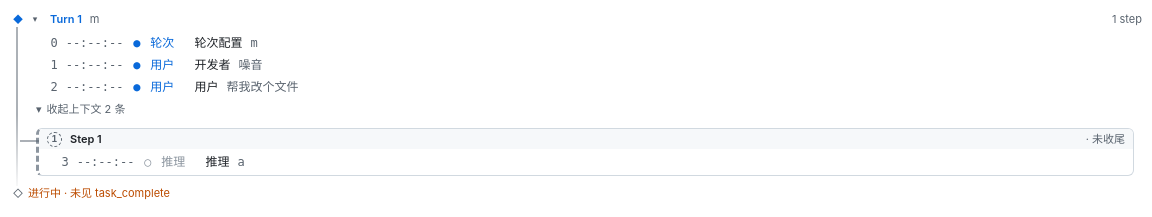
退化路径（§3.4：不认识也不崩） › G14 · 只有 response_item 形式的用户输入时，前言仍然常显它
Click the button with test id "turn-preamble-toggle": [86, 109] box [28, 98, 1142, 120]
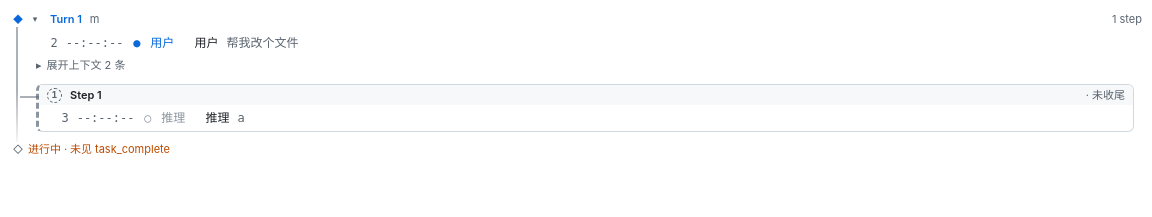
Result: the button with test id "turn-preamble-toggle" shows "展开上下文 2 条" at [28, 54, 1142, 76]
